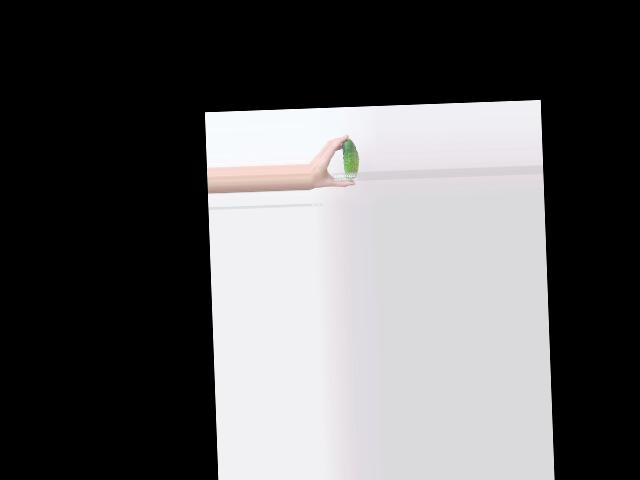cucumber: (342, 138, 360, 181)
